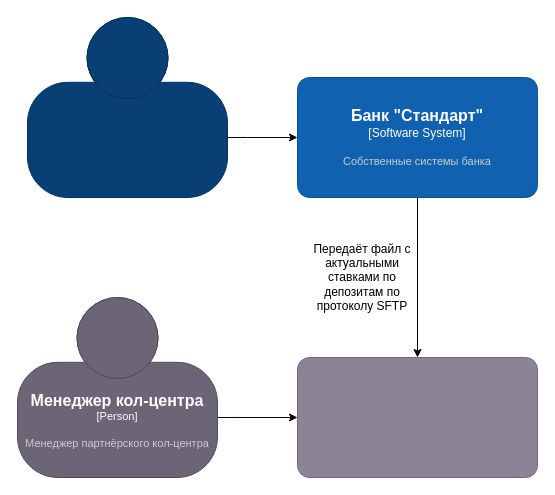
Some shapes in this 555 by 495 pixel diagram are drawn without their labels. Here are the shapes that lost their labels. From the top down, the centre of each, then its label:
At (127,107): "Менеджер кол-центра [Person] Менеджер кол-центра банка".
At (417,417): "Система кол-центра [Software System] Система кол-центра подрядчика".
